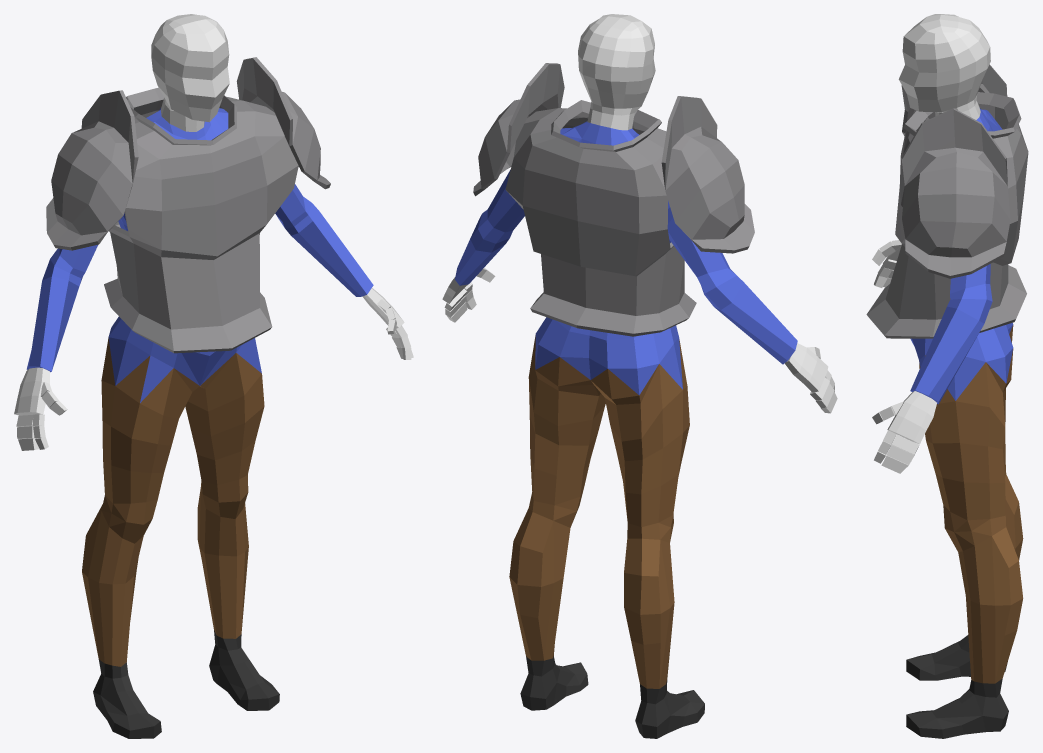
File: armadura.glb
3 views of the same model, side by side, from view 1: azimuth 30°, elevation 25°; view 2: azimuth 150°, elevation 25°; view 3: azimuth 270°, elevation 25° (orthographic).
Parts seen in each view (by area): view 1: Plane.007, Armor_Metal2; view 2: Plane.007, Armor_Metal2; view 3: Plane.007, Armor_Metal2.
Part boxes in pixels (x1,y1,x2,y2): Plane.007: [14, 14, 413, 738]; Armor_Metal2: [46, 57, 330, 353]; Plane.007: [442, 14, 837, 738]; Armor_Metal2: [473, 63, 754, 336]; Plane.007: [872, 14, 1023, 738]; Armor_Metal2: [866, 64, 1028, 338].
Bounding box in the file's own units: 1.06 × 1.82 × 0.3911.
